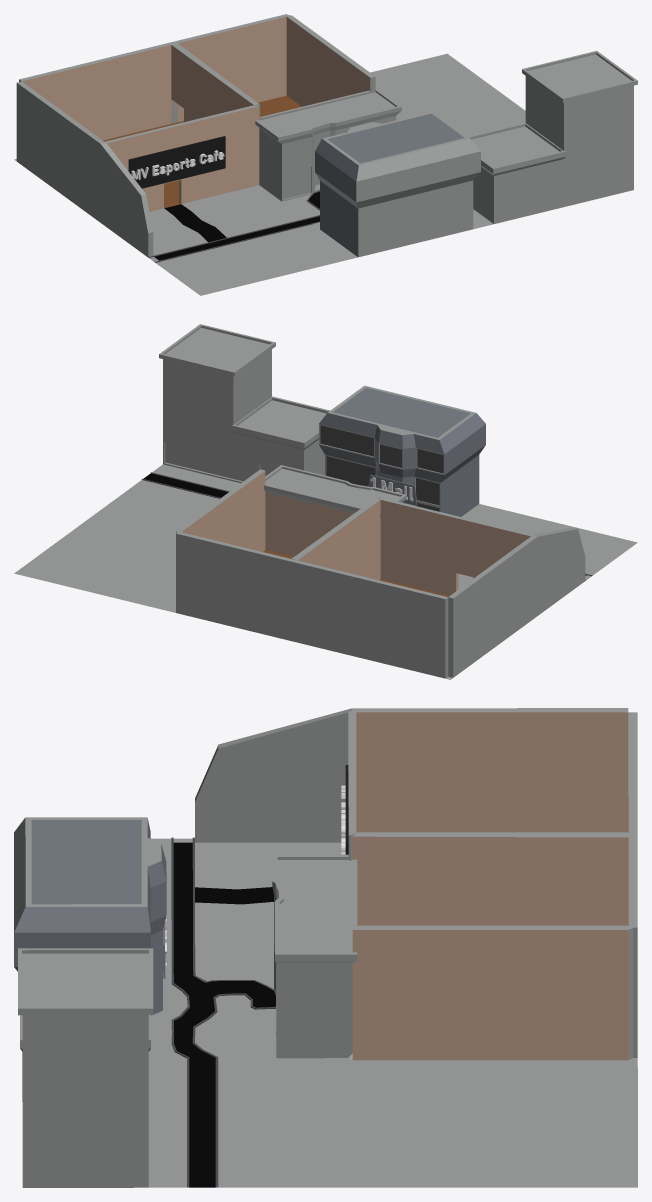
File: MAP.fbx
3 views of the same model, one above another, from view 1: azimuth 30°, elevation 25°; view 2: azimuth 150°, elevation 25°; view 3: azimuth 270°, elevation 25° (orthographic). The views are drawn at different scales.
Visible parts, largest first — view 1: City, Cube; view 2: City, 1MallSign; view 3: City.
Boxes of the visible parts, left/top/right/bottom form: City: left=14, top=14, right=637, bottom=295; Cube: left=128, top=136, right=225, bottom=188; City: left=14, top=324, right=637, bottom=679; 1MallSign: left=368, top=474, right=417, bottom=505; City: left=14, top=708, right=637, bottom=1187.
Size of the model in its own units: 9977 by 2398 by 7485.
